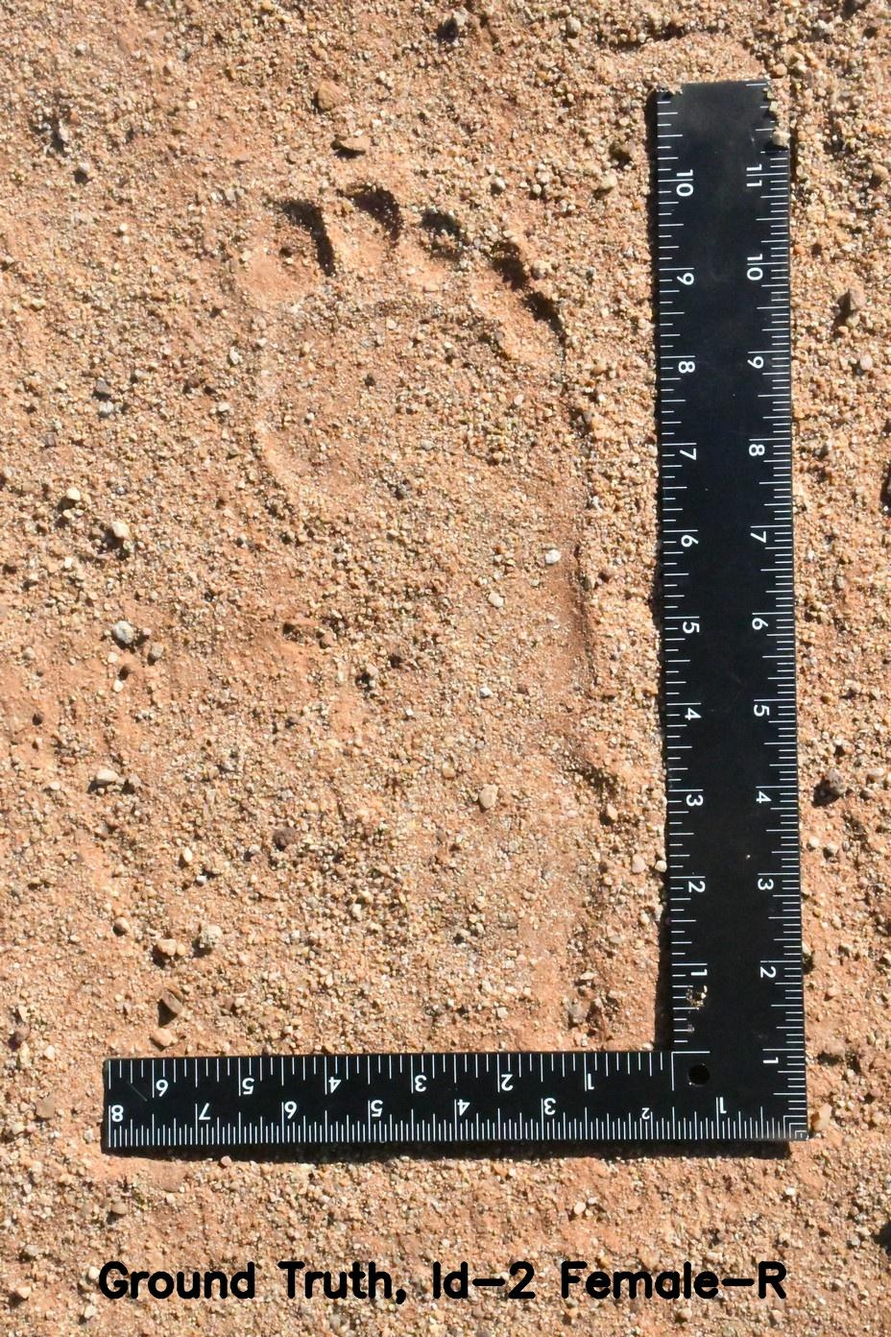human_footprint: (177, 145, 647, 1034)
